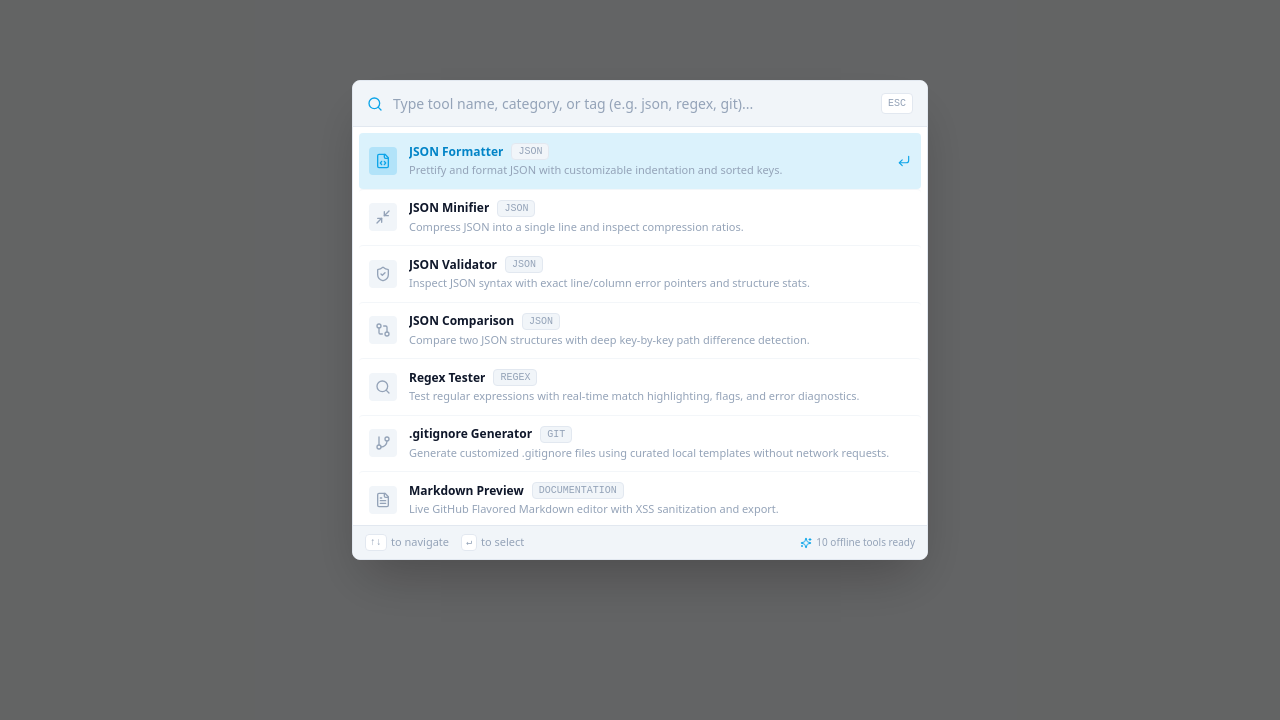
Scenario: CommandPalette Component › filters tool list based on search query
The width and height of the screenshot is (1280, 720).
Type "diff" into the field named "search tools palette".
click(632, 104); type("diff")  # box x1=393 y1=94 x2=871 y2=114
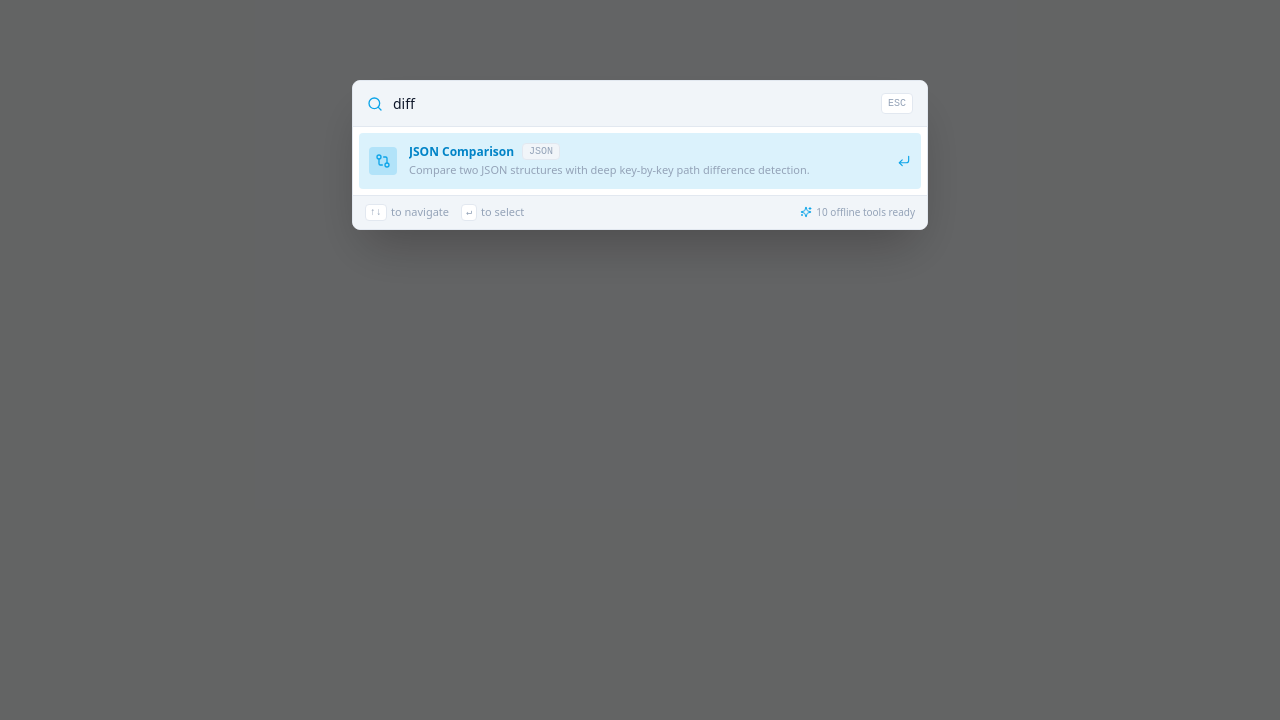
Expected: the text "JSON Comparison" is shown, x1=409 y1=144 x2=514 y2=160
Expected: the text "Markdown Preview" is gone
